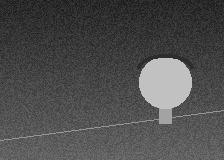no_helmet: (139, 54, 191, 113)
